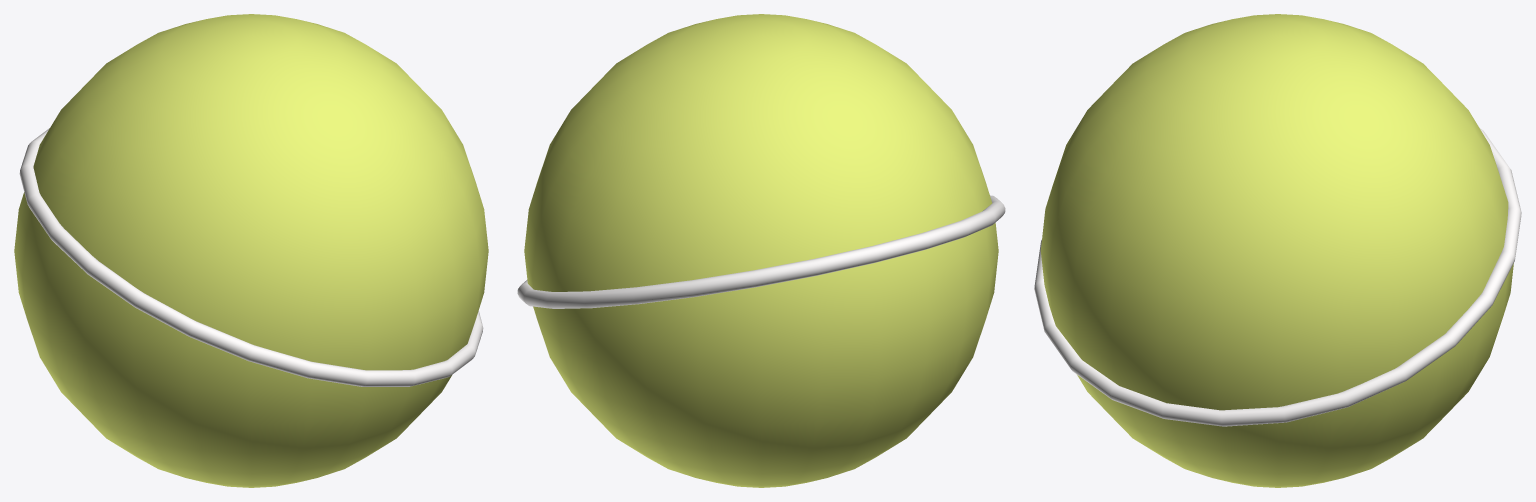
The model's file is tennis_ball.glb.
The picture shows the model from 3 angles, left to right: view 1: azimuth 30°, elevation 25°; view 2: azimuth 150°, elevation 25°; view 3: azimuth 270°, elevation 25°; orthographic projection.
Parts seen in each view (by area): view 1: core, seam; view 2: core, seam; view 3: core, seam.
Part boxes in pixels (x1,y1,x2,y2): core: (14, 14, 488, 487); seam: (19, 128, 483, 386); core: (524, 14, 998, 487); seam: (517, 195, 1005, 308); core: (1040, 14, 1513, 487); seam: (1034, 128, 1521, 426).
Size of the model in its own units: 1.1 by 1.1 by 1.13.
